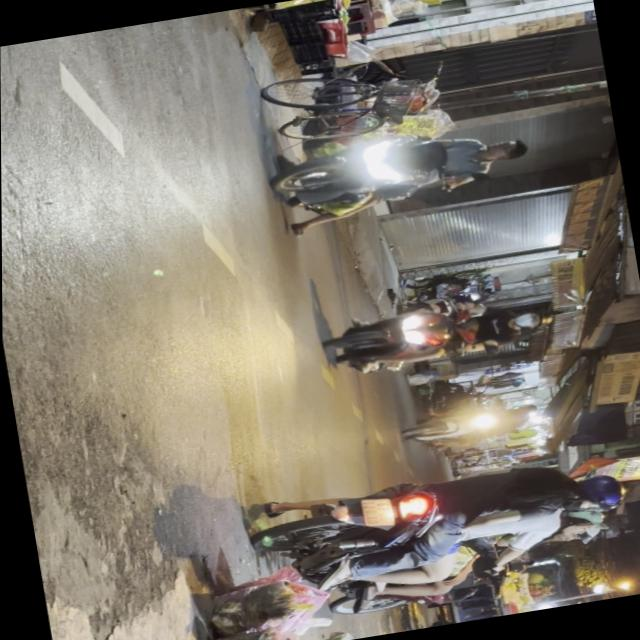helmet: (565, 469, 625, 509), (512, 308, 554, 332)
licenseplate: (241, 439, 640, 633), (260, 112, 538, 236), (319, 283, 559, 382)
motorcyclist: (480, 136, 530, 164)
nohelmet: (360, 495, 395, 527)
